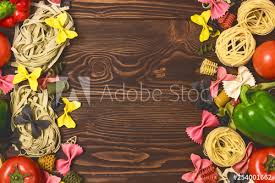Tomato: (1, 156, 46, 181), (247, 144, 273, 180), (253, 39, 272, 78)
